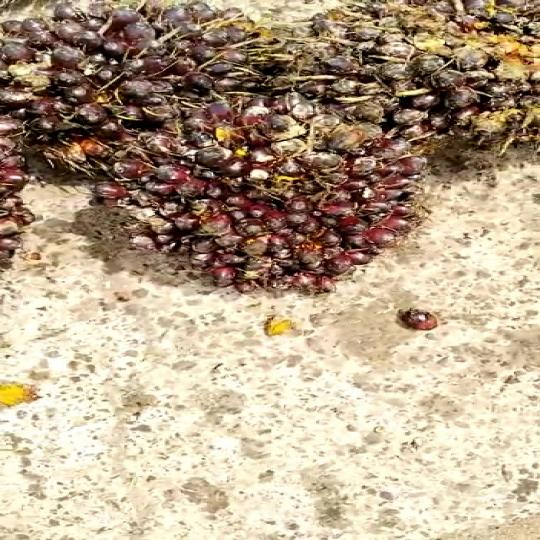kurang masak: (0, 0, 540, 306)
